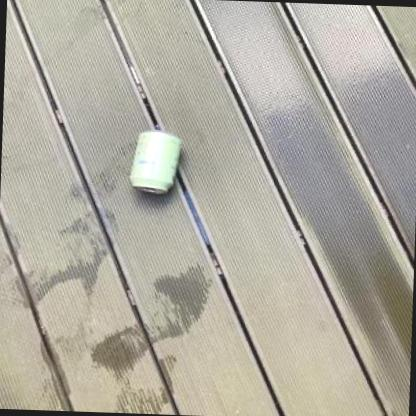alumunium_can: (127, 129, 183, 196)
